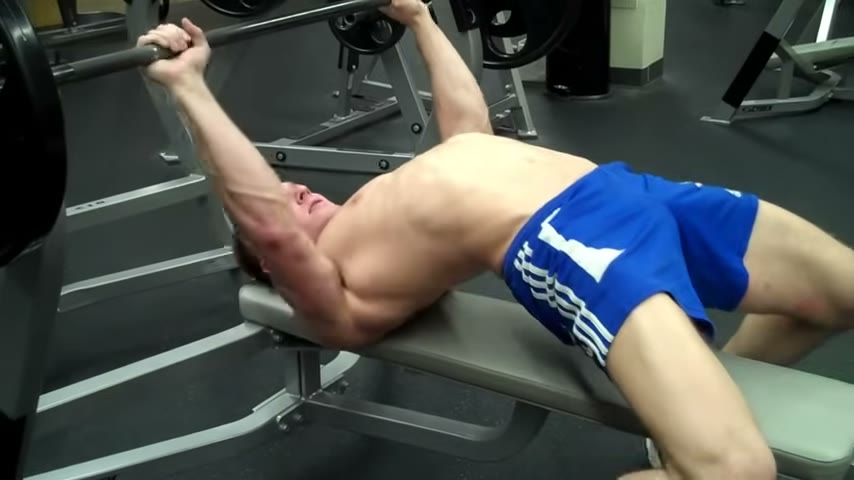barbell_plate_side: (0, 4, 77, 474)
